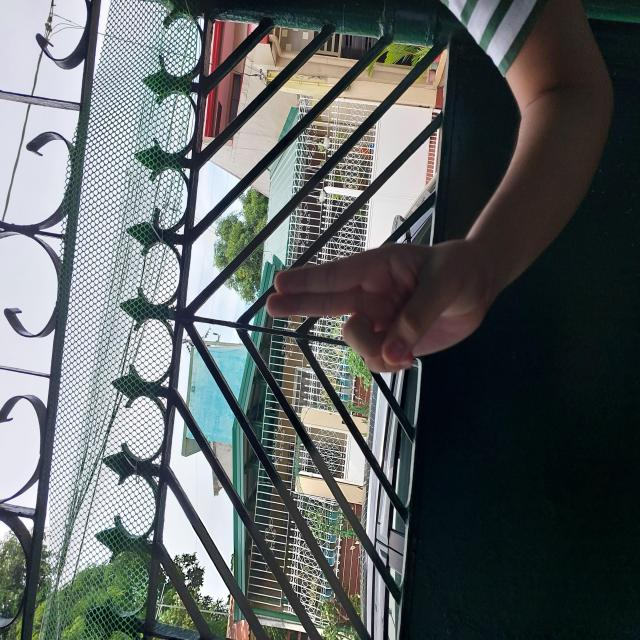U: (266, 263, 400, 493)
